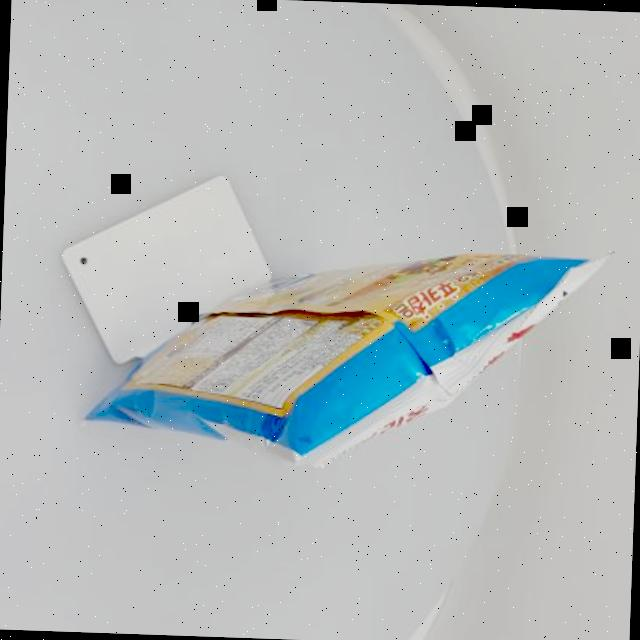snack_bag: (52, 191, 632, 523)
